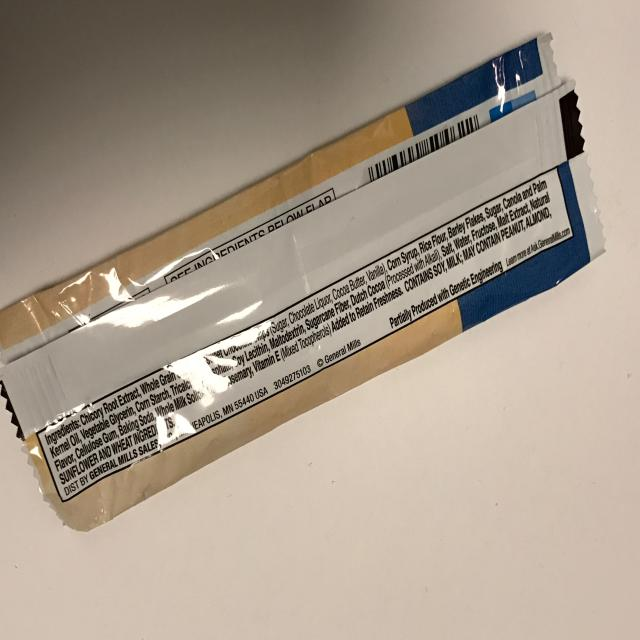trash: (1, 30, 606, 532)
